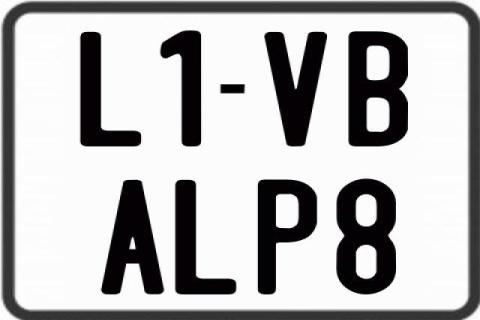0: (333, 178, 393, 296), (159, 28, 200, 147)
A: (100, 180, 165, 296)
B: (347, 29, 410, 149)
L: (174, 180, 241, 298), (80, 30, 146, 148)
P: (258, 179, 317, 297)
V: (261, 30, 327, 148)
